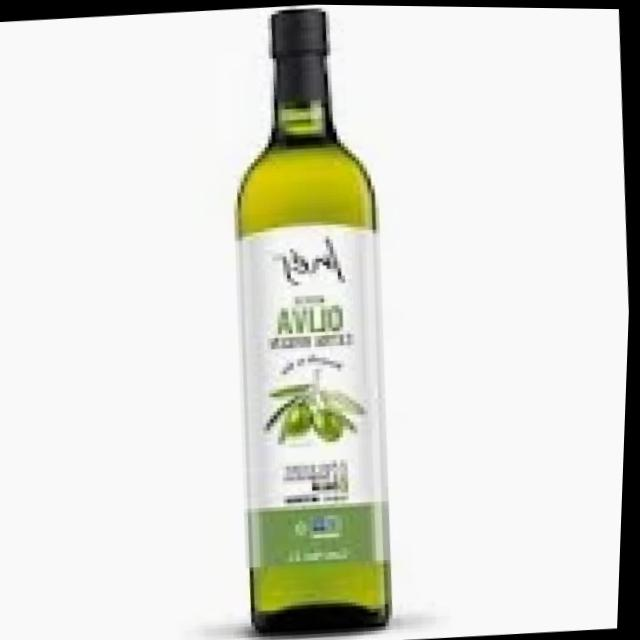Botella: (186, 3, 430, 638)
